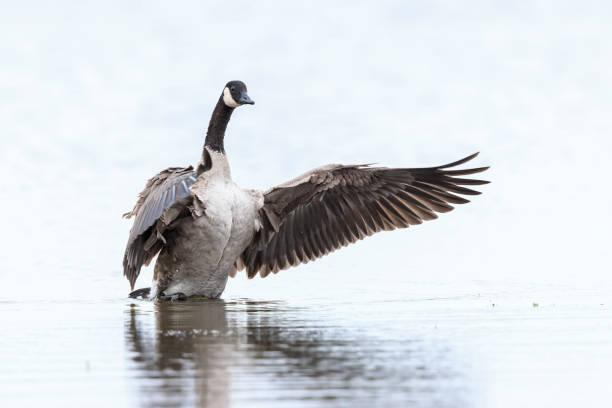Canadian-Goose: (118, 77, 492, 306)
